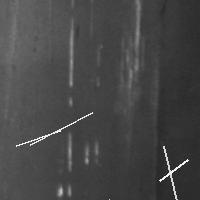scratches: (54, 129, 101, 198), (25, 108, 97, 150), (117, 1, 146, 86), (158, 141, 183, 200), (65, 16, 81, 107), (11, 126, 65, 151), (155, 154, 193, 185), (58, 195, 114, 200)
